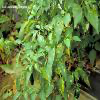Bell_pepper leaf spot: (53, 16, 64, 46), (72, 4, 83, 30), (44, 63, 53, 86), (57, 61, 67, 81), (24, 67, 33, 87), (45, 81, 55, 98), (66, 73, 74, 94), (55, 43, 64, 61), (37, 32, 46, 48), (58, 78, 65, 96), (34, 63, 41, 73)
